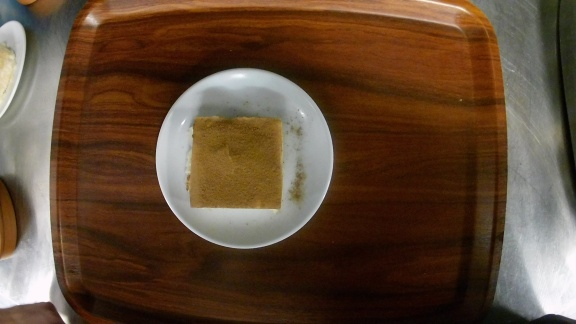tiramisu: (155, 68, 335, 249)
